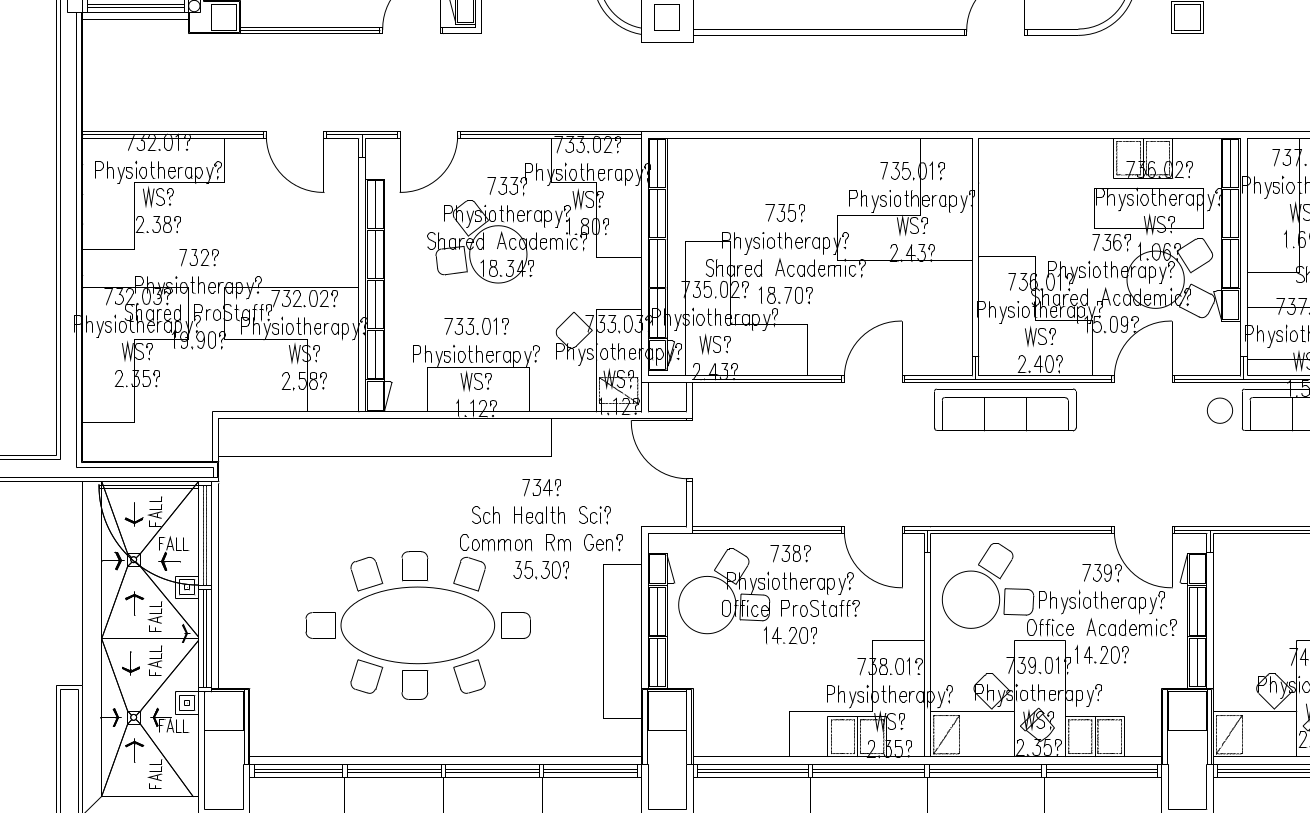door: (258, 129, 329, 200), (844, 531, 907, 596), (1112, 316, 1175, 381), (1112, 528, 1175, 593), (394, 134, 457, 199), (630, 418, 691, 477), (843, 316, 904, 375), (960, 1, 1031, 46)
